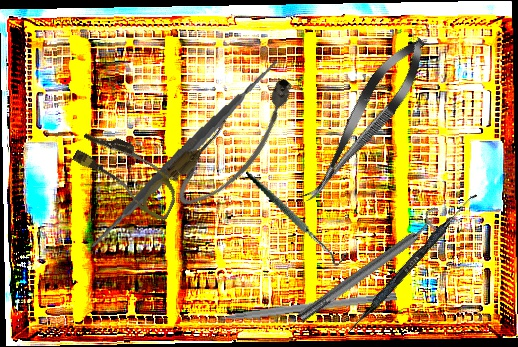Cannula: (157, 68, 316, 218), (65, 123, 190, 223)
Fixation Ring: (291, 204, 452, 329)
Hook Surgical: (245, 148, 350, 285)
Micro Scissor: (291, 28, 439, 214)
Pusher: (196, 289, 397, 326)
Spatula Surgical: (73, 45, 296, 264), (345, 188, 478, 339)
